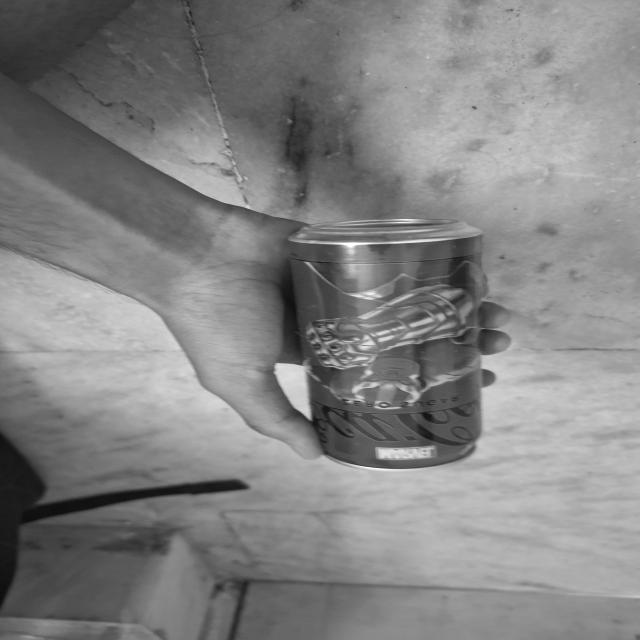Coca Cola Zero: (299, 227, 485, 468)
